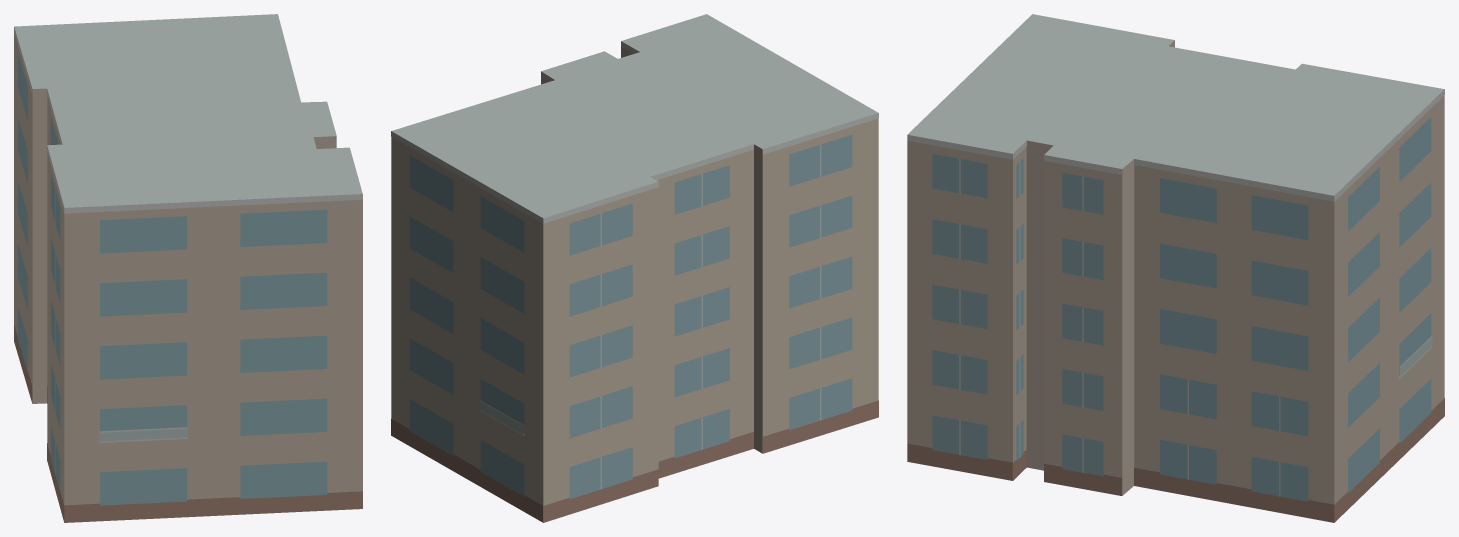
The model's file is survey-upis-32534832.glb.
The picture shows the model from 3 angles, left to right: view 1: azimuth 30°, elevation 25°; view 2: azimuth 150°, elevation 25°; view 3: azimuth 270°, elevation 25°; orthographic projection. The views are drawn at different scales.
Visible parts, largest first — view 1: survey-upis-32534832.tmp; view 2: survey-upis-32534832.tmp; view 3: survey-upis-32534832.tmp.
Boxes of the visible parts, x1,y1,x2,y2 form: survey-upis-32534832.tmp: [14, 14, 362, 522]; survey-upis-32534832.tmp: [391, 14, 878, 522]; survey-upis-32534832.tmp: [907, 14, 1444, 522].
Bounding box in the file's own units: 15.99 × 13.4 × 19.97.
